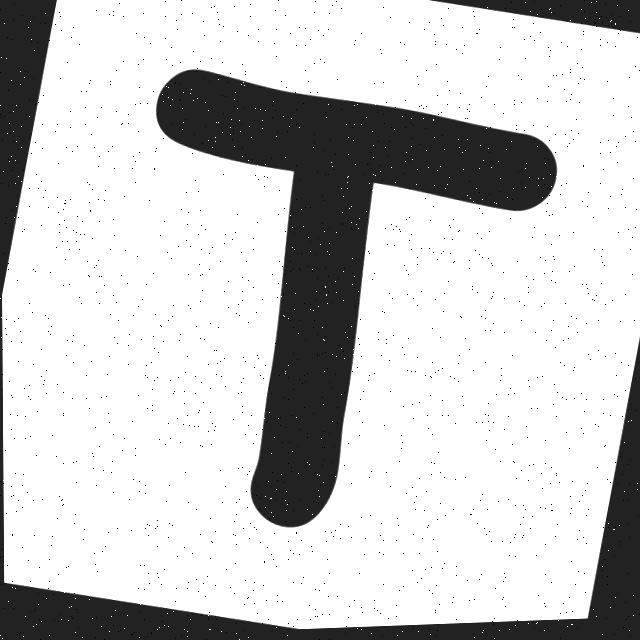T: (156, 71, 557, 529)
